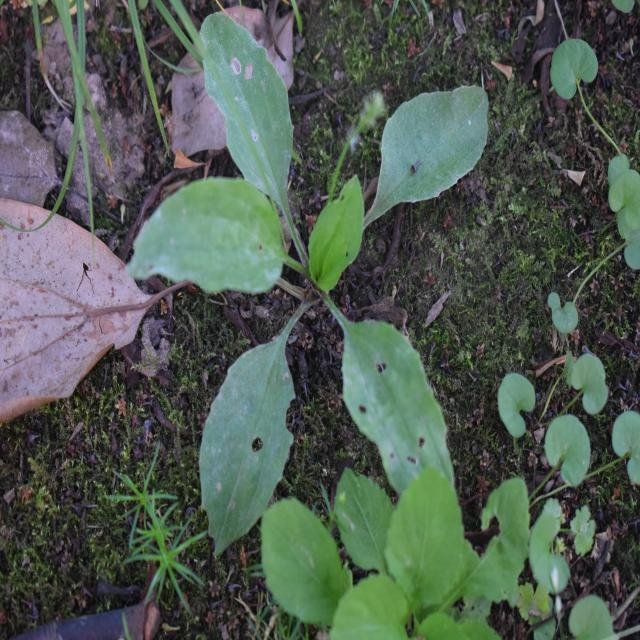plantain: (142, 17, 492, 488)
